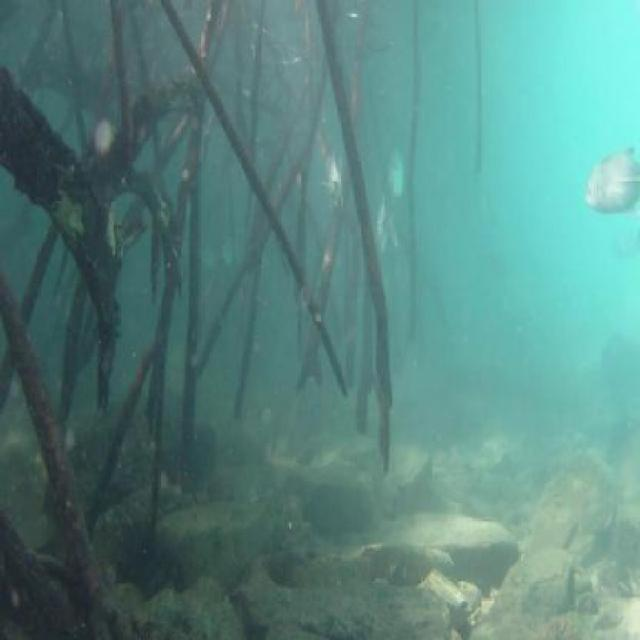Caranx_sexfasciatus_juvenile: (581, 139, 640, 218), (378, 137, 413, 200), (319, 144, 346, 213), (371, 191, 398, 258)
